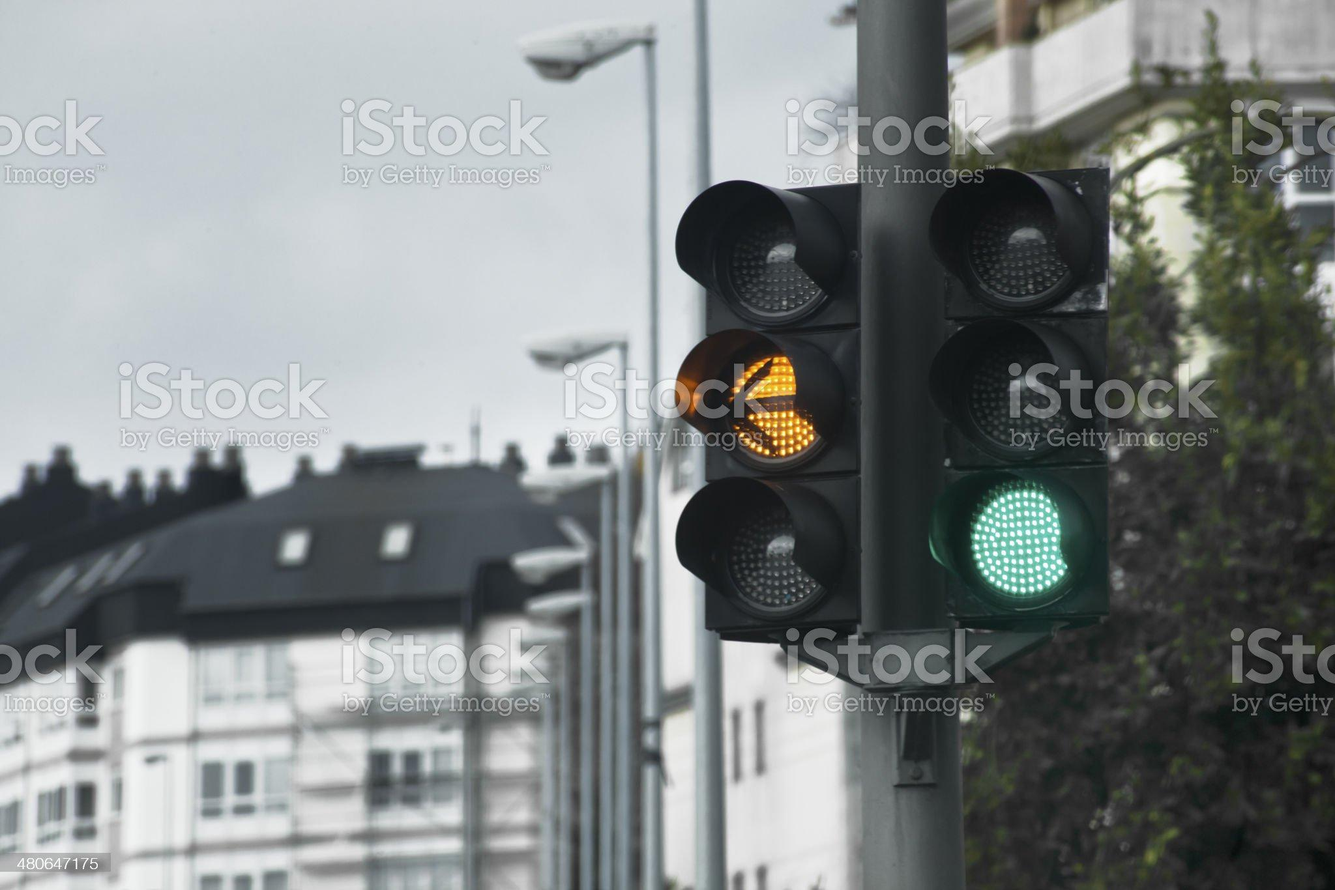Traffic light green: (913, 176, 1112, 617)
